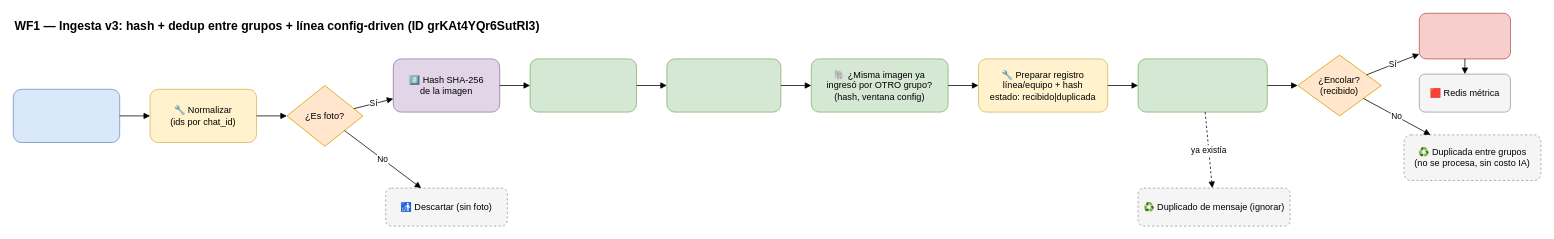
Some shapes in this 1554 by 239 pixel diagram are drawn without their labels. The centre of each missing label's shape, as x and y in pixels:
🐘 Buscar LÍNEA tabla lineas_grupos (config-driven): [723,85]
🐘 Registrar evidencia (PK = dedup por mensaje): [1202,85]
🐰 RabbitMQ: [1464,36]
📱 Telegram Trigger: [66,115]
🗄 Guardar original en MinIO: [582,85]
